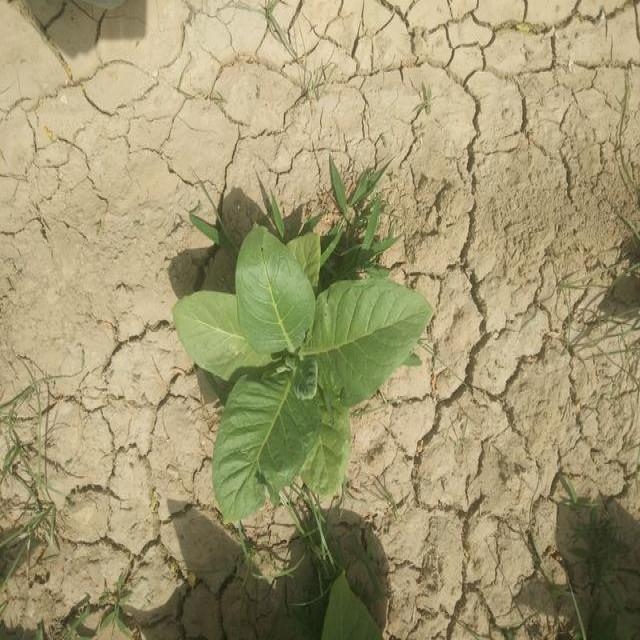crop: (162, 216, 434, 515)
